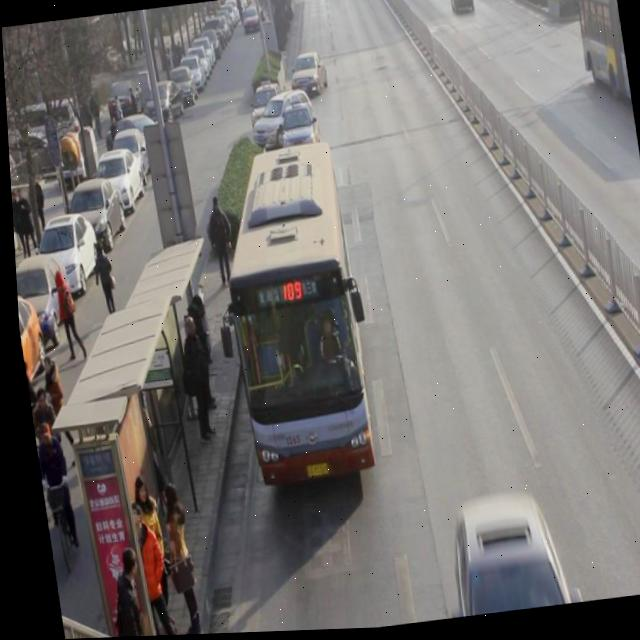car: (438, 492, 565, 620), (248, 89, 314, 154), (278, 99, 320, 157), (245, 81, 286, 135), (287, 52, 328, 101), (447, 0, 474, 17)
van: (208, 144, 372, 485), (568, 0, 629, 107)
